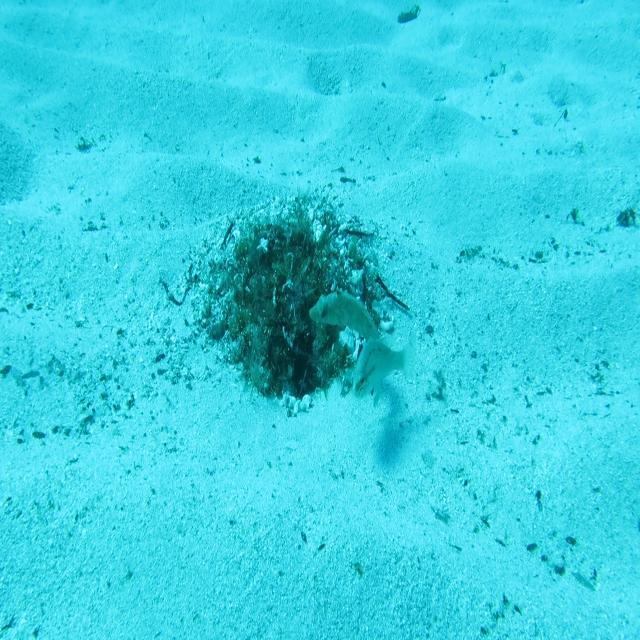BEND: (307, 284, 383, 411)
core_nest: (265, 237, 311, 289)
female: (350, 329, 419, 403)
nest: (178, 177, 401, 431)
vegetation: (616, 204, 637, 232), (395, 7, 421, 28)
